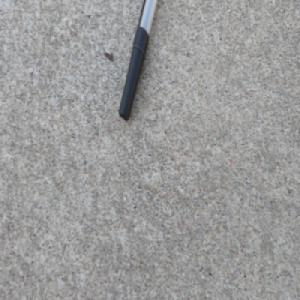Pen: (117, 0, 160, 124)
